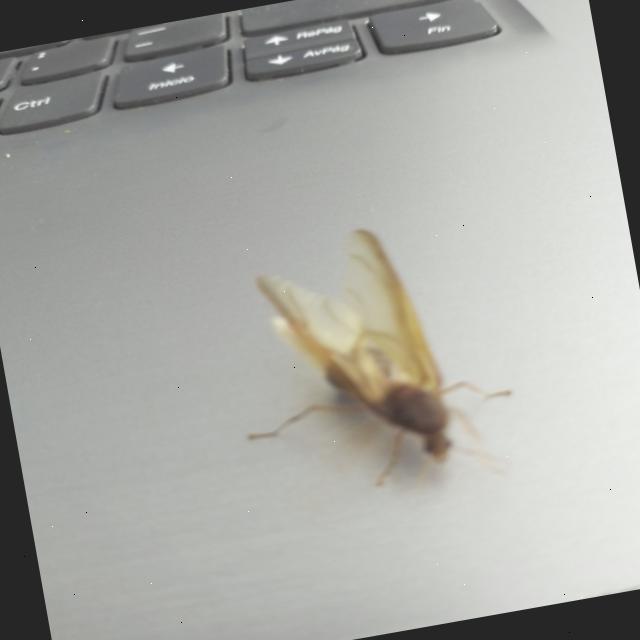Alive-Male-Alate: (215, 208, 526, 518)
